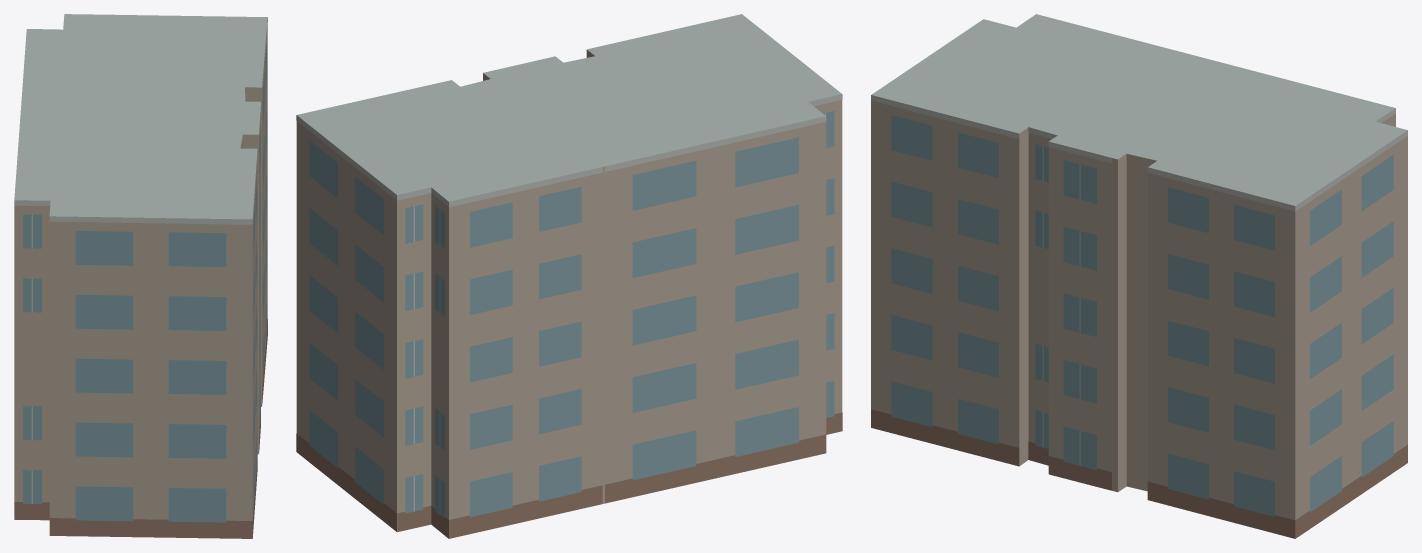
File: survey-upis-32944214.glb
3 views of the same model, side by side, from view 1: azimuth 30°, elevation 25°; view 2: azimuth 150°, elevation 25°; view 3: azimuth 270°, elevation 25° (orthographic). The views are drawn at different scales.
Visible parts, largest first — view 1: survey-upis-32944214.tmp; view 2: survey-upis-32944214.tmp; view 3: survey-upis-32944214.tmp.
Part boxes in pixels (bbox=[...]): survey-upis-32944214.tmp: bbox=[14, 14, 267, 538]; survey-upis-32944214.tmp: bbox=[296, 14, 842, 538]; survey-upis-32944214.tmp: bbox=[871, 14, 1407, 538].
Bounding box in the file's own units: 17.95 × 14.5 × 21.2.
